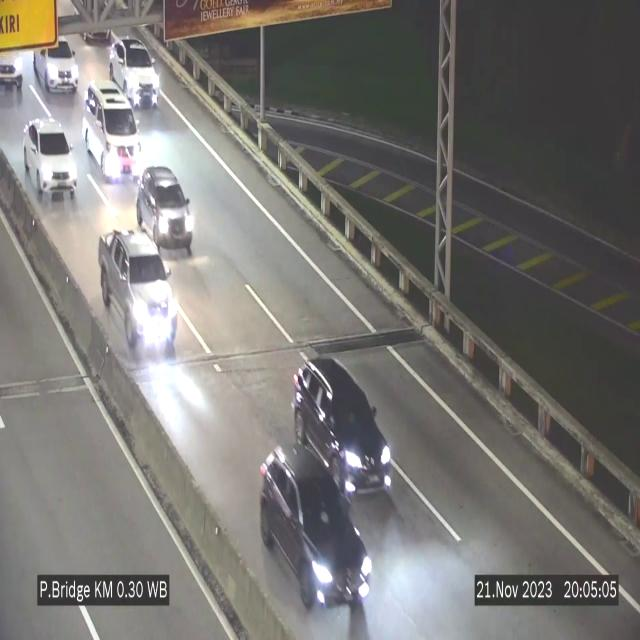Car: (252, 444, 374, 617), (295, 361, 397, 504), (79, 76, 141, 177), (133, 161, 193, 260), (24, 118, 76, 203), (110, 39, 160, 105), (34, 39, 78, 94), (0, 45, 28, 87)
Truck: (98, 230, 180, 351)
